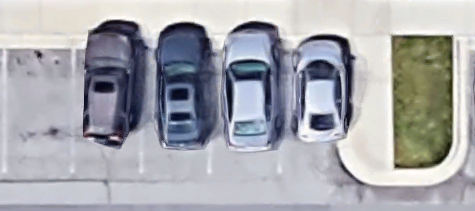Occupied: (209, 43, 279, 172), (140, 44, 209, 172), (73, 44, 141, 172), (279, 44, 347, 172)
Vacant: (4, 44, 73, 172)
